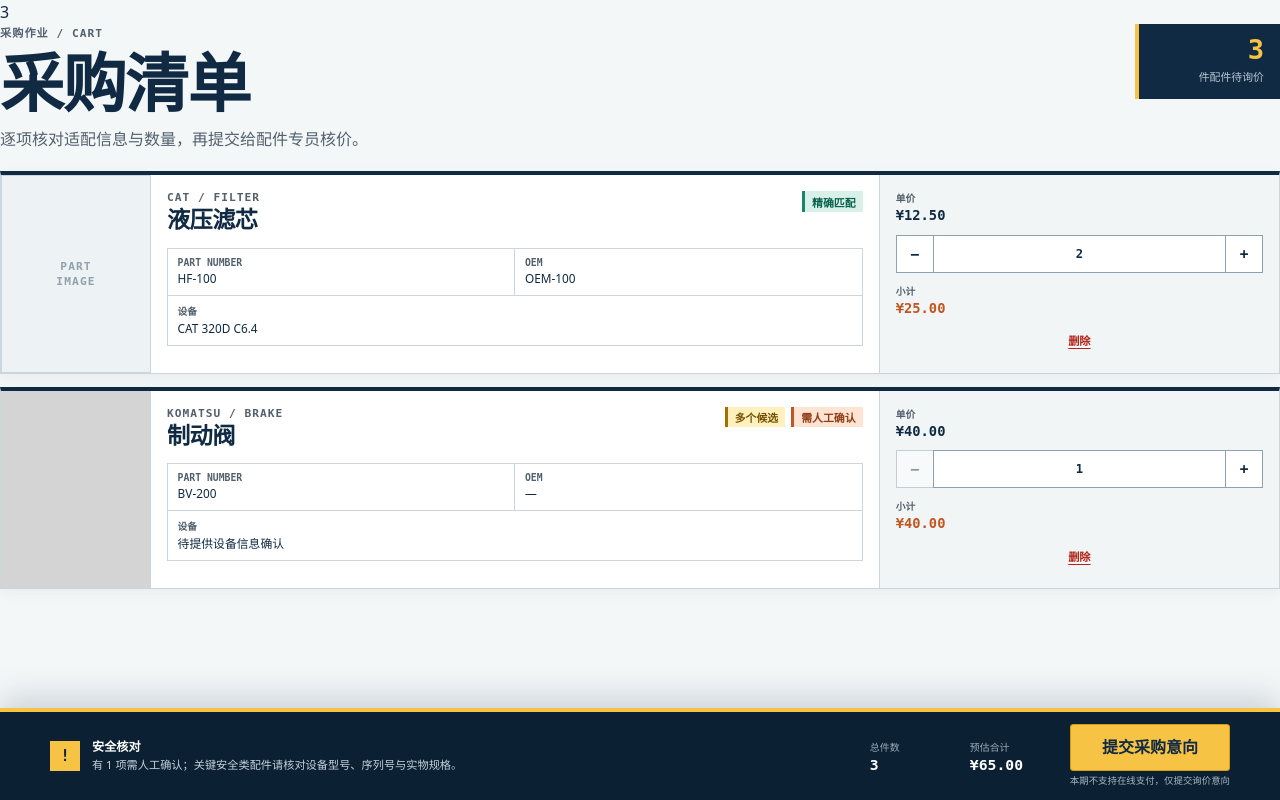
Test case: CartPage › requires confirmation before deleting and updates totals and badge after 204
Expected: the heading "液压滤芯" is shown, [167, 208, 260, 234]
Click the button "删除" below "¥25.00". click: (1079, 342)
box: [896, 327, 1263, 357]
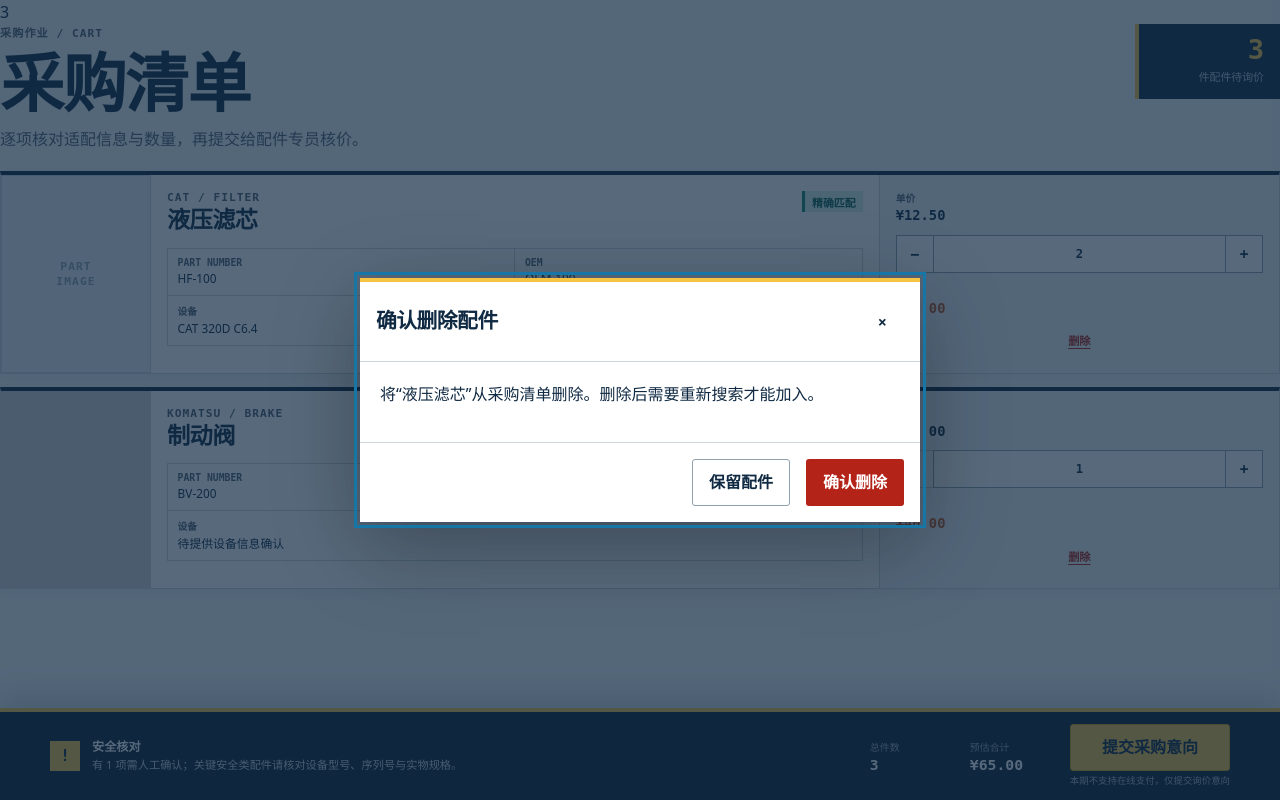
Expected: the dialog "确认删除配件" is shown, [360, 278, 920, 522]
Click the button "确认删除". click: (855, 482)
box: [806, 459, 904, 506]
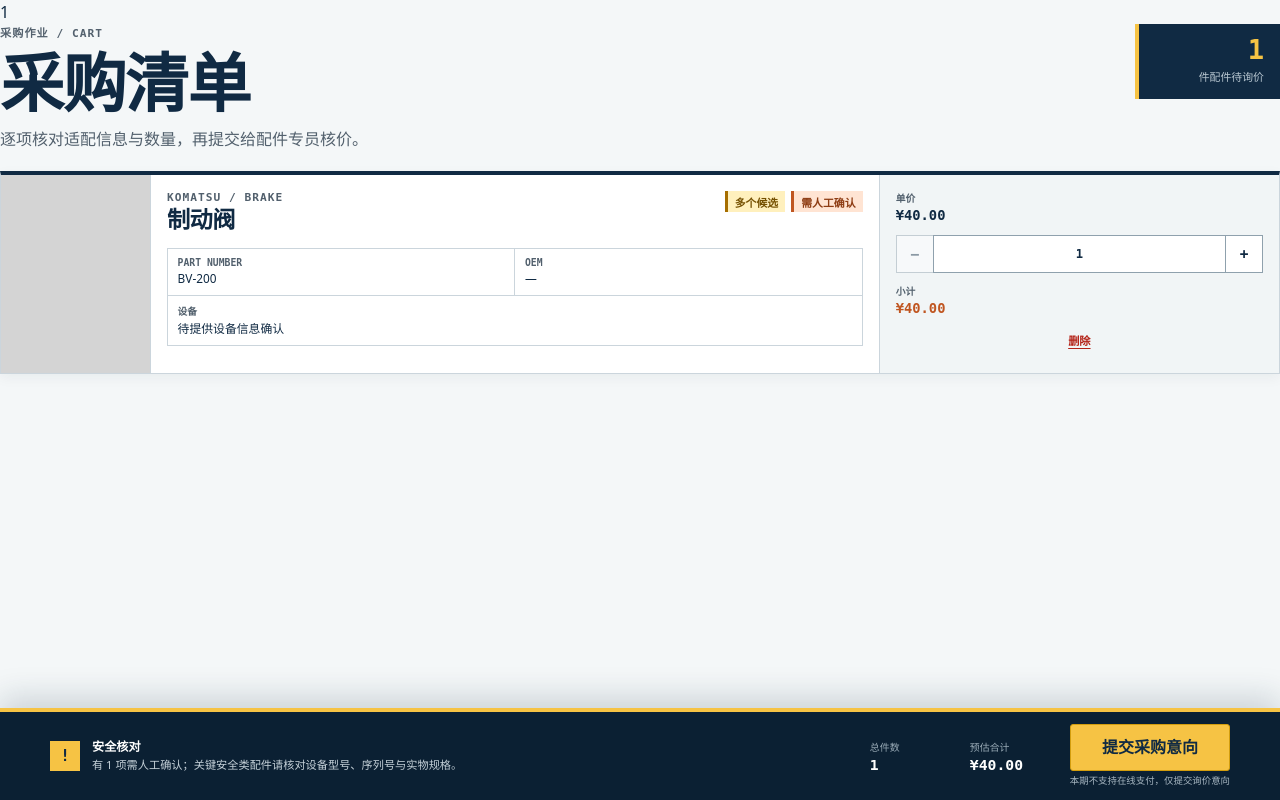
Expected: the heading "液压滤芯" is gone
Expected: the text "¥40.00" is shown 3 times, [896, 207, 945, 223]; [896, 300, 945, 316]; [970, 756, 1023, 773]
Expected: the text named "清单角标" reads "1", [0, 1, 9, 23]
